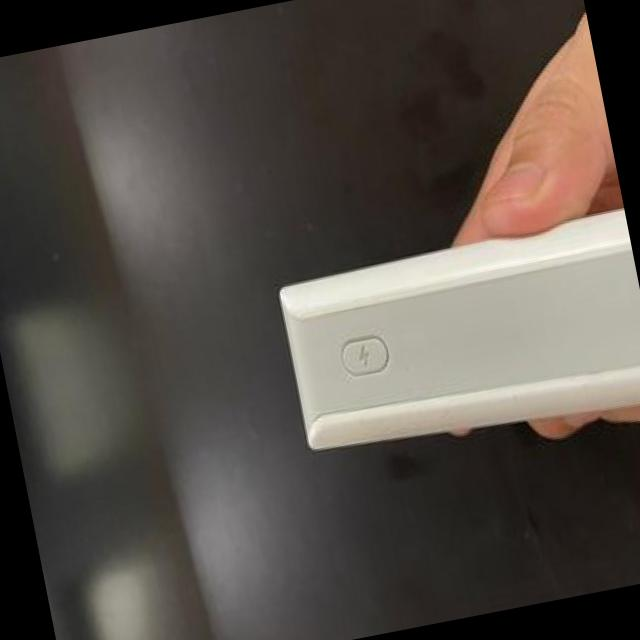power_bank: (264, 204, 640, 475)
